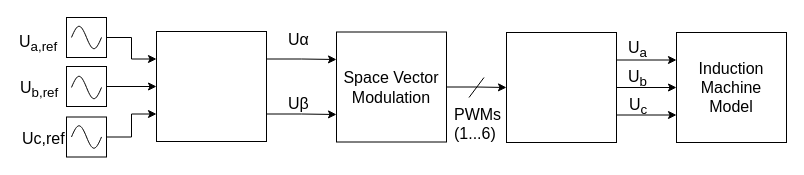
Image size: 804x175. Some labels were removed from this diagram. The shapes that lost their labels are listed below. From the top down, each one's centre as x and y in pixels, then its label:
the point at 211,86: Clarke's transformation abc -> α β
the point at 561,87: Voltage Source Inverter
